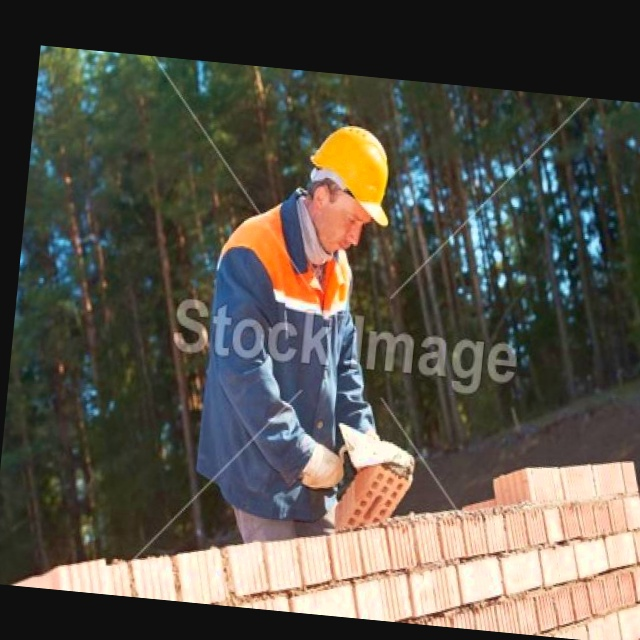Con_Casco: (302, 123, 396, 250)
